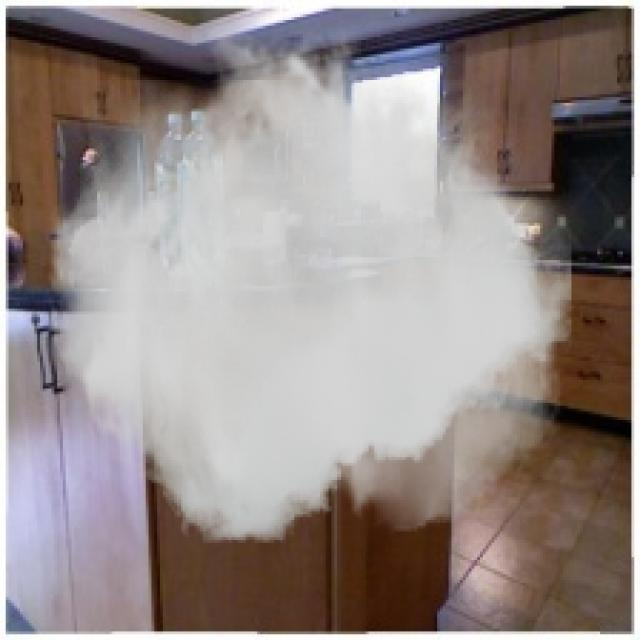smoke: (43, 14, 571, 543)
